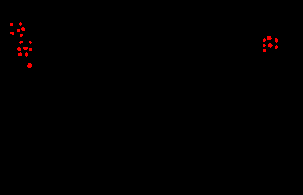Target: (268, 43, 273, 48), (27, 63, 32, 68), (267, 36, 272, 40), (21, 27, 25, 31), (17, 47, 21, 51), (18, 52, 22, 56), (275, 38, 278, 43), (23, 47, 28, 50), (25, 52, 28, 57), (19, 22, 22, 26), (10, 32, 14, 35), (263, 38, 266, 42), (19, 41, 23, 44), (275, 45, 278, 49), (10, 23, 13, 26), (17, 29, 20, 32), (20, 34, 23, 37), (29, 41, 32, 44), (263, 44, 266, 47), (29, 48, 32, 51), (263, 49, 266, 52)
